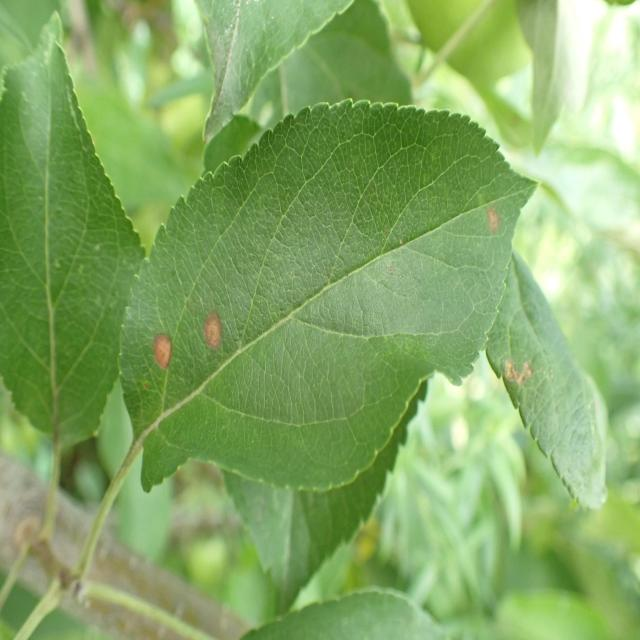Black Rot: (189, 292, 233, 369), (138, 310, 176, 390), (477, 178, 509, 252)
